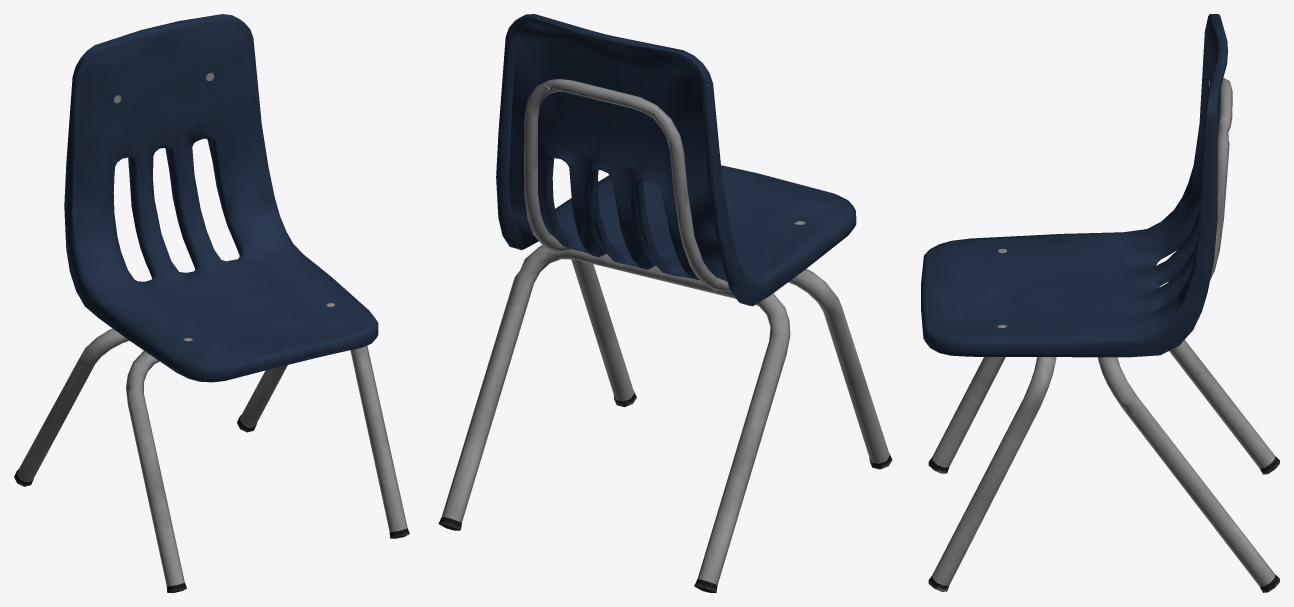
Rendered from school_chair.glb.
3 views of the same model, side by side, from view 1: azimuth 30°, elevation 25°; view 2: azimuth 150°, elevation 25°; view 3: azimuth 270°, elevation 25° (orthographic). The views are drawn at different scales.
Parts seen in each view (by area): view 1: SchoolChair; view 2: SchoolChair; view 3: SchoolChair.
Part boxes in pixels (box(x1,y1,x2,y2)): SchoolChair: box(14, 14, 409, 592); SchoolChair: box(438, 14, 892, 592); SchoolChair: box(921, 14, 1279, 592).
Size of the model in its own units: 0.6507 by 1.16 by 0.7771.
Materials: 1 (1 with a texture image).
